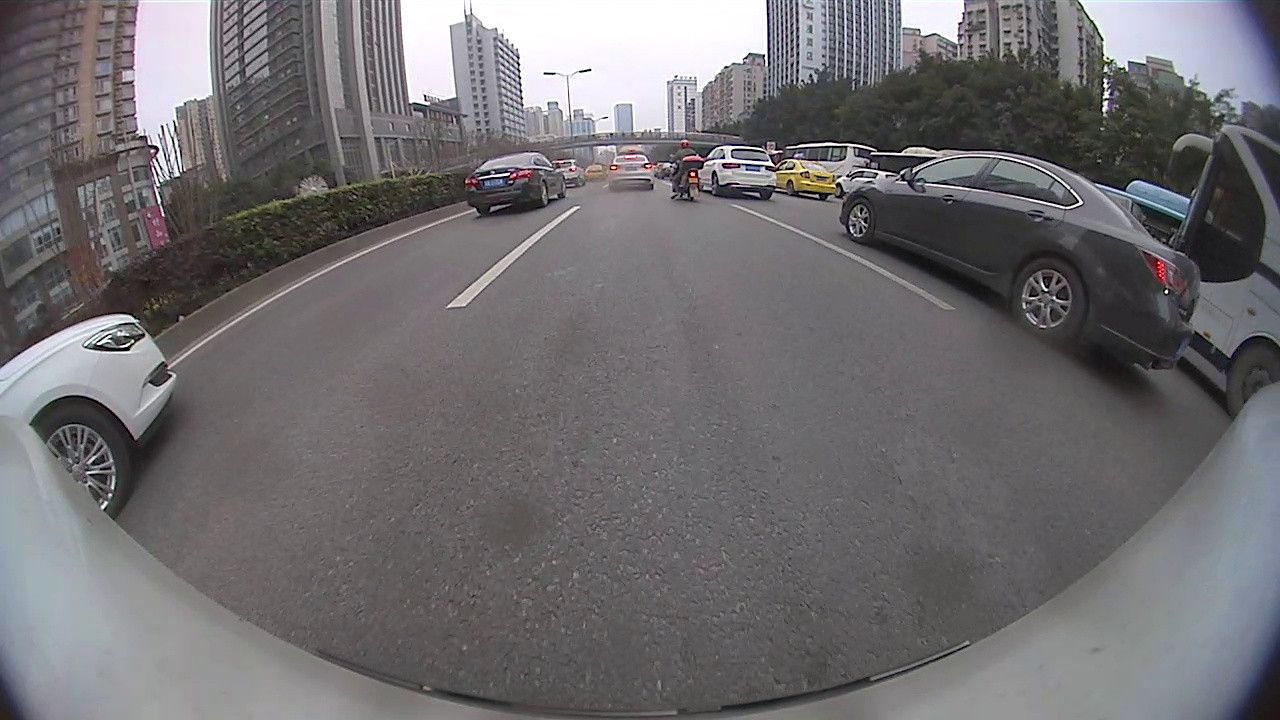bus: (1168, 122, 1279, 416), (1097, 176, 1190, 245)
car: (842, 147, 1205, 374), (0, 316, 182, 520), (464, 150, 569, 216), (706, 148, 781, 203), (781, 161, 839, 203), (610, 151, 656, 190)
front: (31, 400, 132, 517), (1227, 340, 1279, 420), (844, 195, 877, 244)
rear: (1010, 261, 1084, 343), (538, 178, 547, 205), (712, 172, 720, 195)
rider: (668, 139, 706, 205)
